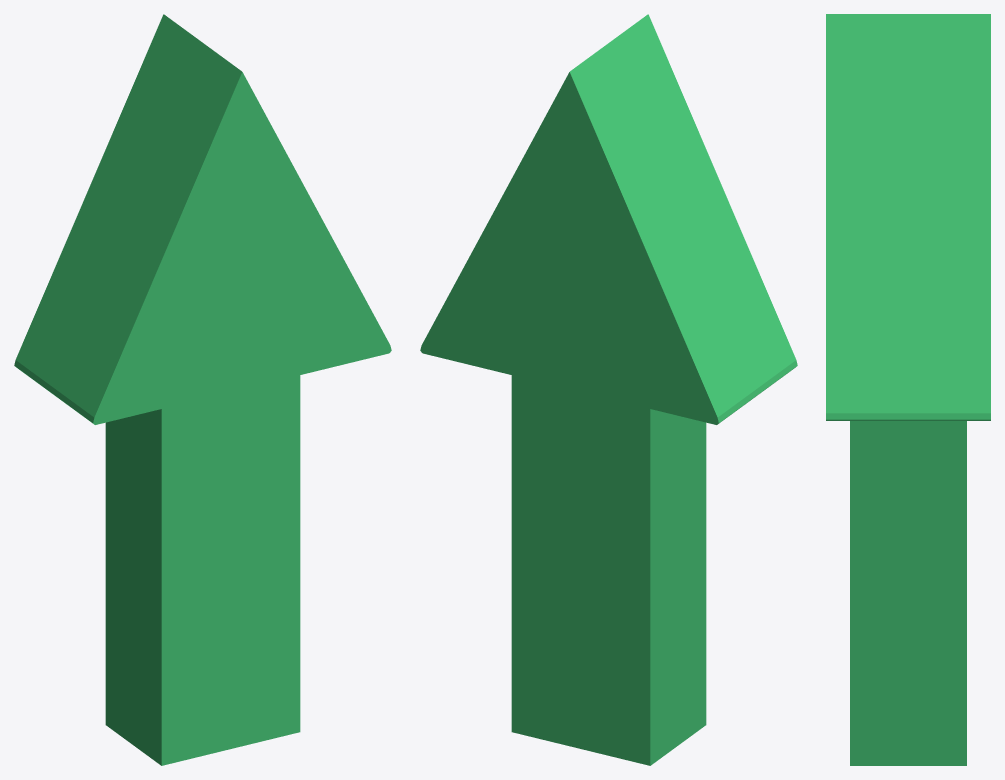
Rendered from Arrow.fbx.
3 views of the same model, side by side, from view 1: azimuth 30°, elevation 25°; view 2: azimuth 150°, elevation 25°; view 3: azimuth 270°, elevation 25° (orthographic). The views are drawn at different scales.
Visible parts, largest first — view 1: Arrow; view 2: Arrow; view 3: Arrow.
Boxes of the visible parts, x1,y1,x2,y2 form: Arrow: [14, 14, 391, 765]; Arrow: [420, 14, 797, 765]; Arrow: [826, 14, 990, 765].
Bounding box in the file's own units: 22.73 × 49.87 × 10.39.
